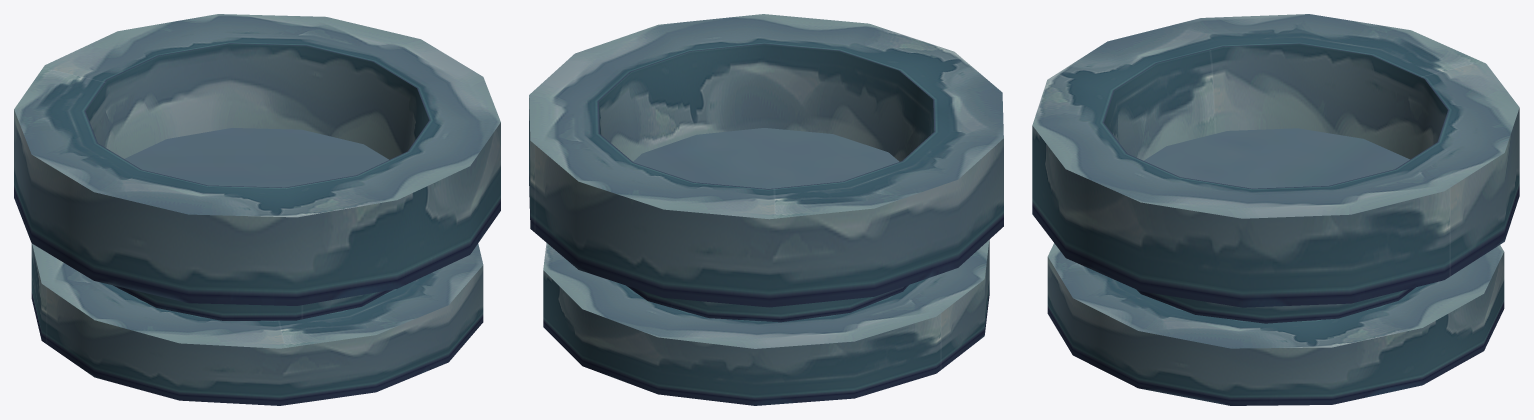
File: SM_CT_Chemney.FBX
3 views of the same model, side by side, from view 1: azimuth 30°, elevation 25°; view 2: azimuth 150°, elevation 25°; view 3: azimuth 270°, elevation 25° (orthographic).
Visible parts, largest first — view 1: SM_CT_Chemney; view 2: SM_CT_Chemney; view 3: SM_CT_Chemney.
Boxes of the visible parts, box(x1,y1,x2,y2) form: SM_CT_Chemney: box(14, 14, 500, 405); SM_CT_Chemney: box(529, 14, 1003, 405); SM_CT_Chemney: box(1032, 14, 1519, 405).
Size of the model in its own units: 184 by 81.89 by 185.
